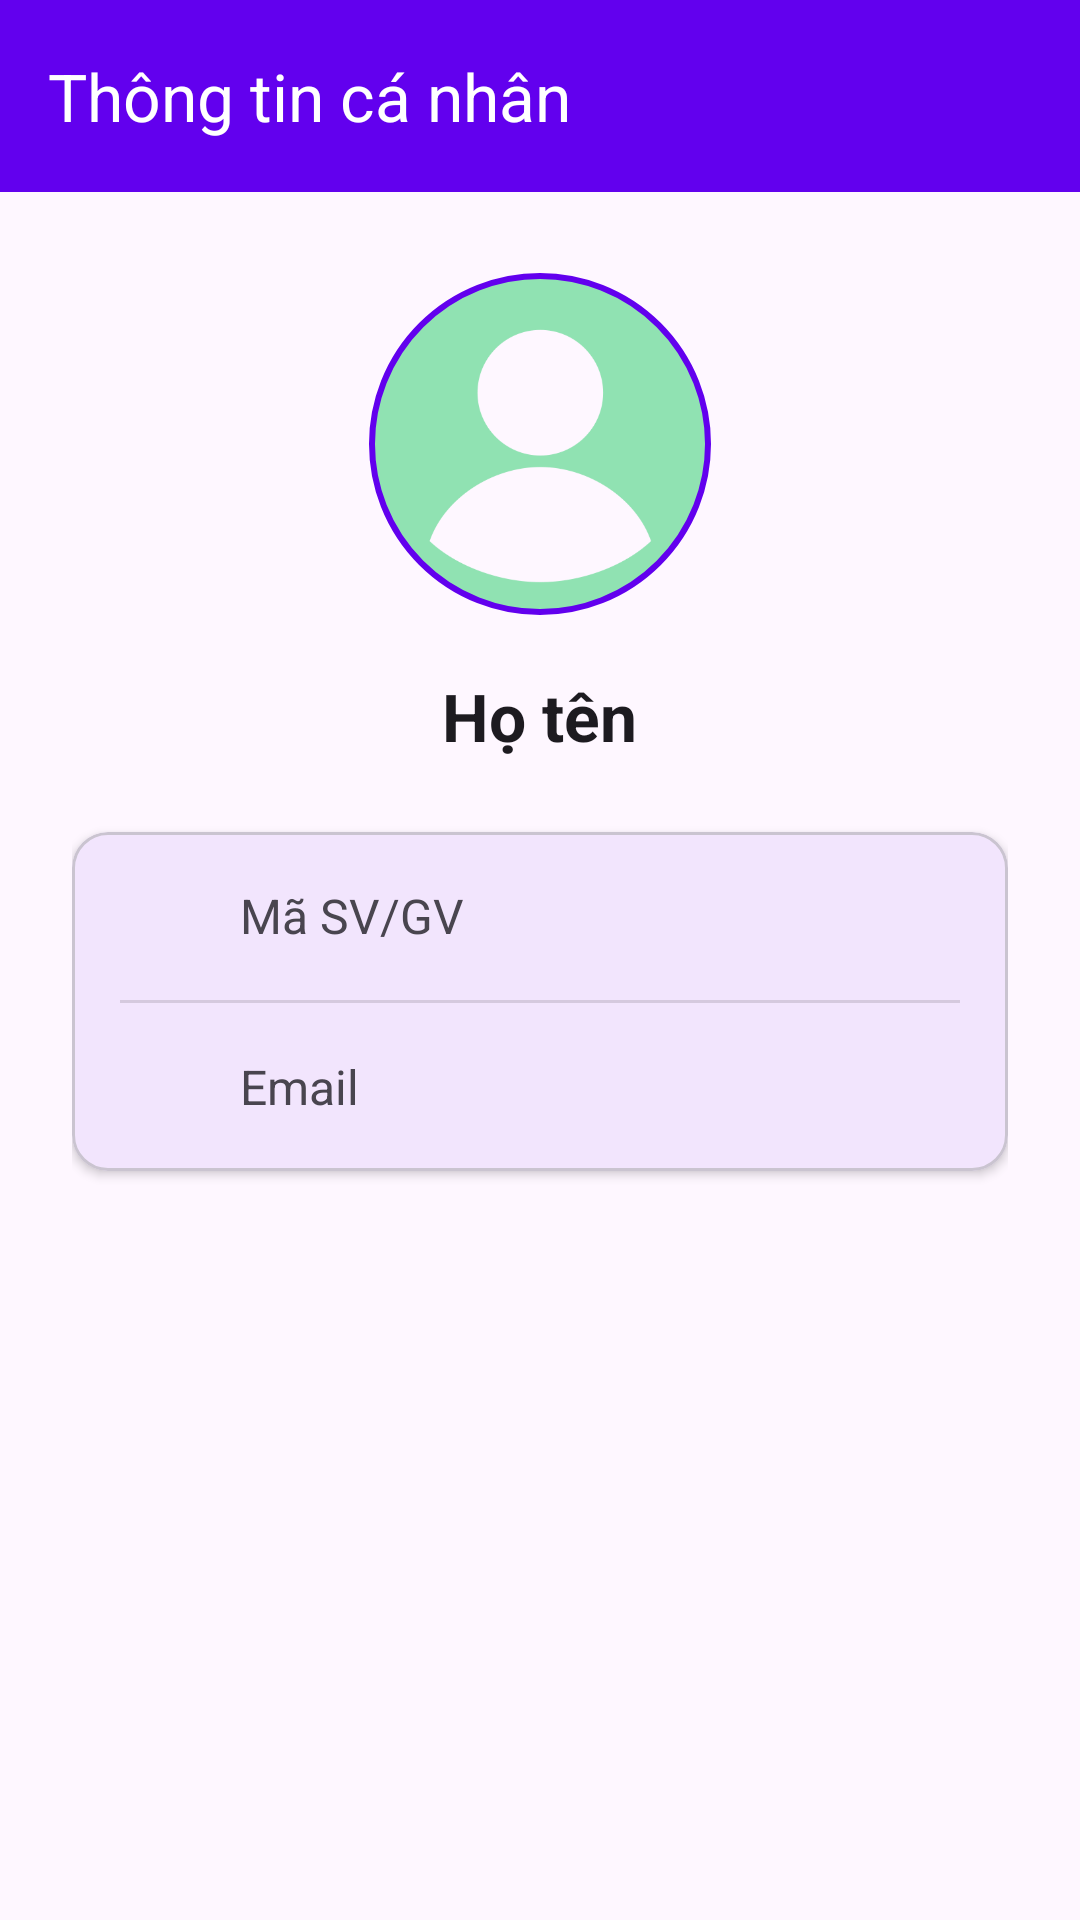

Where to tap for icons on this 1080*1920 app screen, as (x=x, y=y):
Avatar: (x=540, y=444)
